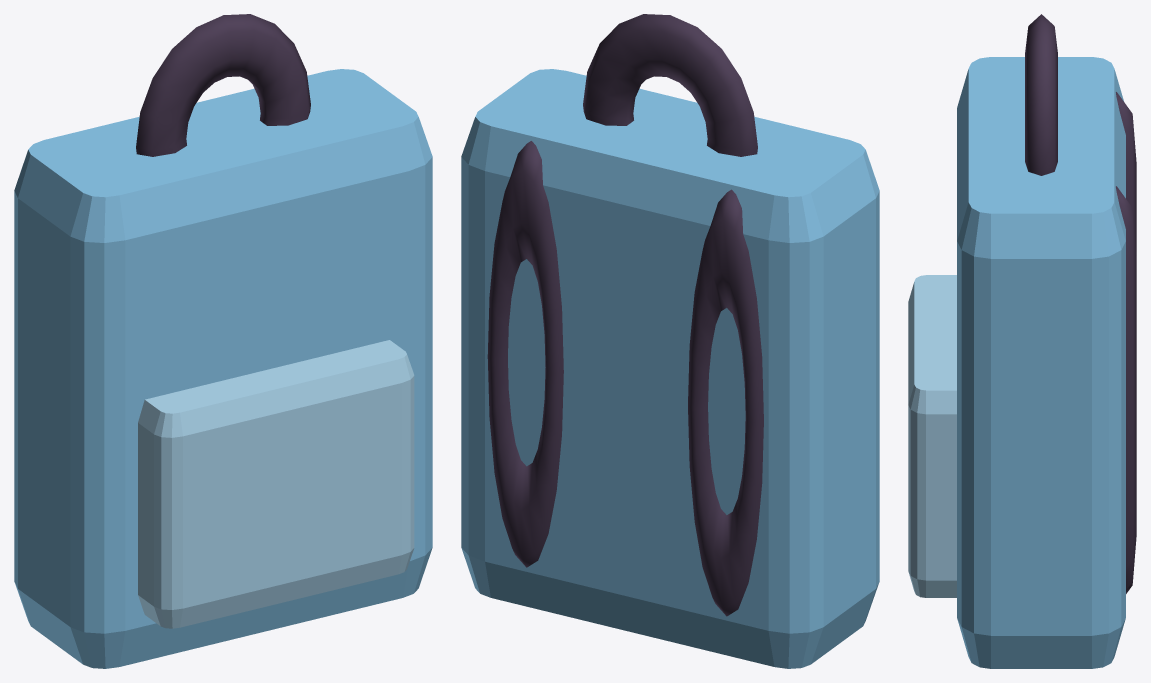
Rendered from shopping_bag.glb.
3 renders of one model, left to right at view 1: azimuth 30°, elevation 25°; view 2: azimuth 150°, elevation 25°; view 3: azimuth 270°, elevation 25°, orthographic. The views are drawn at different scales.
Parts seen in each view (by area): view 1: model; view 2: model; view 3: model.
Boxes of the visible parts, bbox=[...] form: model: bbox=[14, 14, 432, 668]; model: bbox=[461, 14, 879, 668]; model: bbox=[908, 14, 1136, 668].
Bounding box in the file's own units: 0.35 × 0.55 × 0.2.
